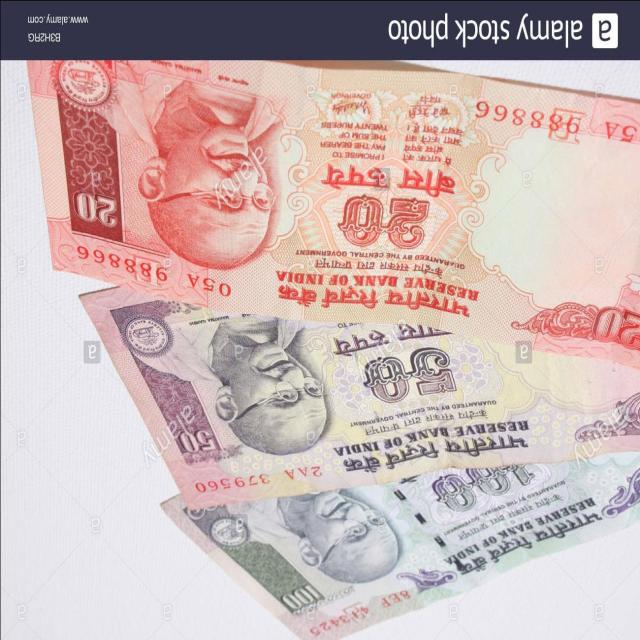50IndianRupees: (81, 251, 640, 508)
